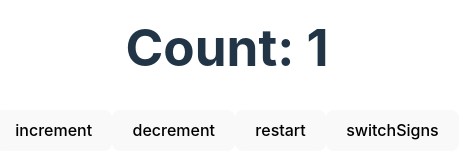
Scenario: <Counter /> › should switch positive or negative
Click the button "switchSigns": x=392, y=130 [326,110,459,151]
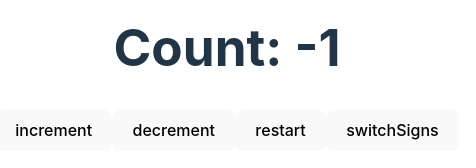
Result: the heading with test id "countNumber" reads "Count: -1" at [114,16,340,78]
